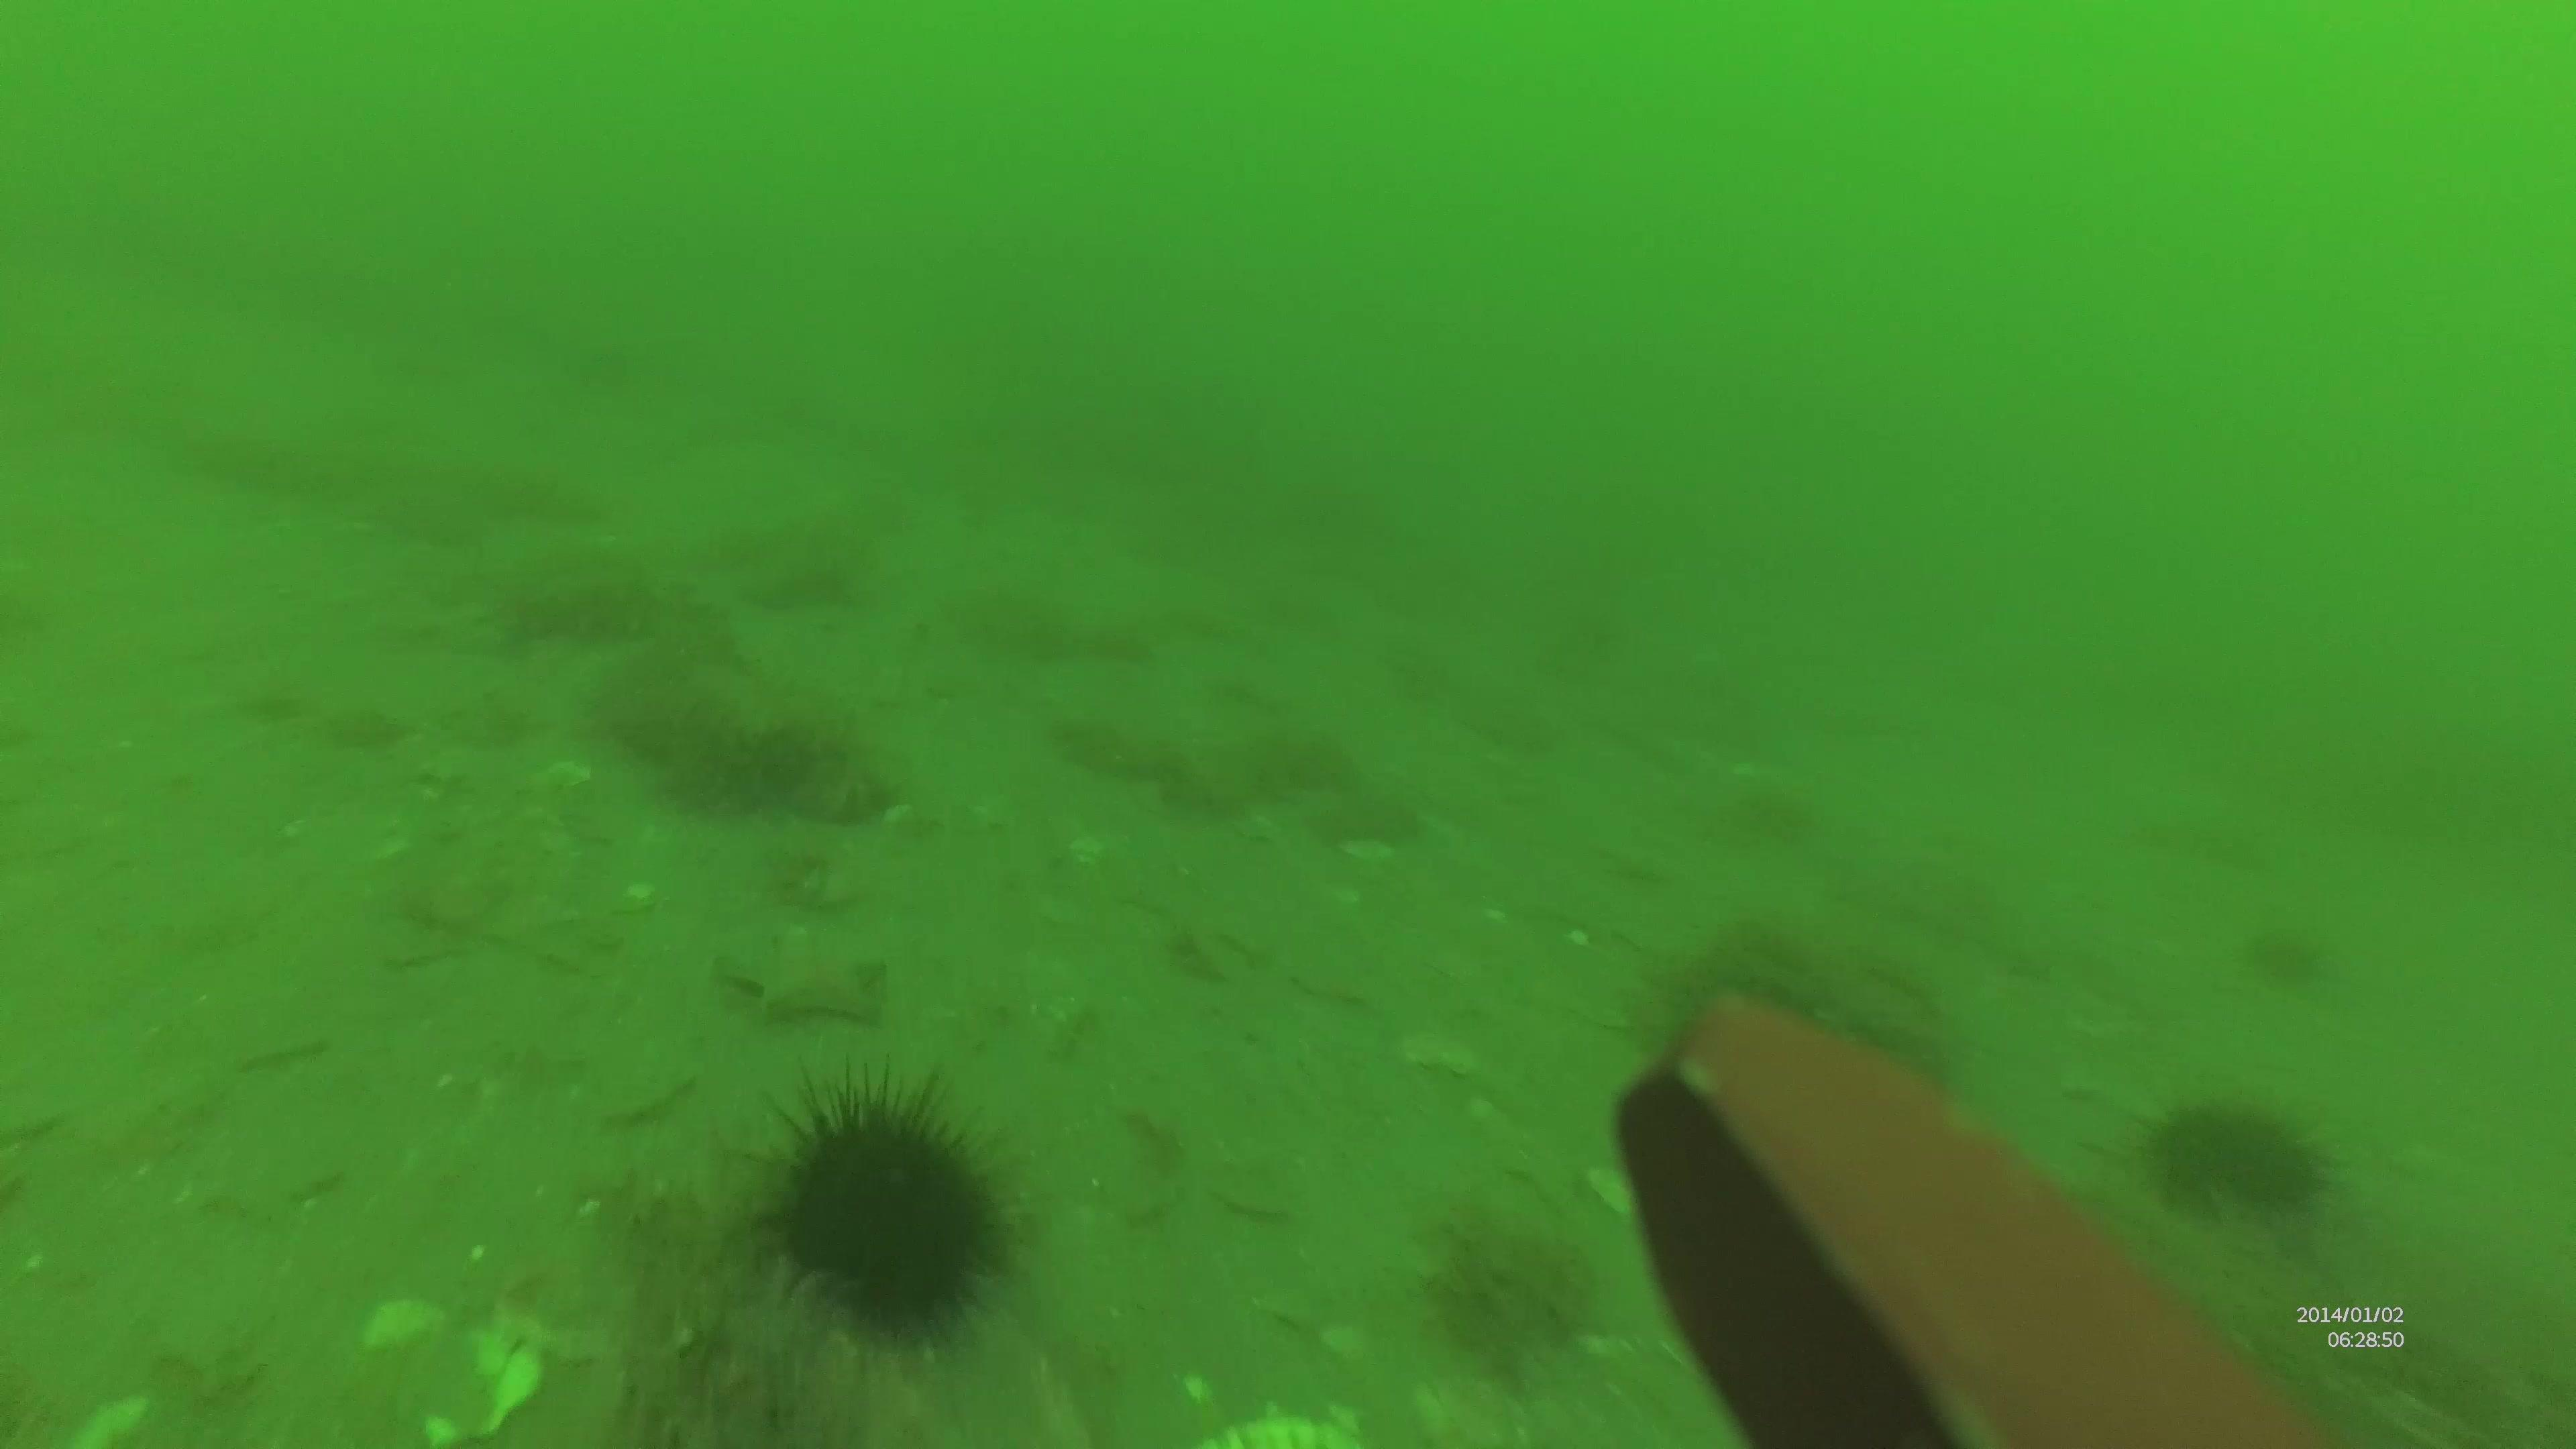echinus: (738, 1063, 1044, 1355), (2135, 1086, 2346, 1237)
starfish: (718, 924, 888, 1030)
